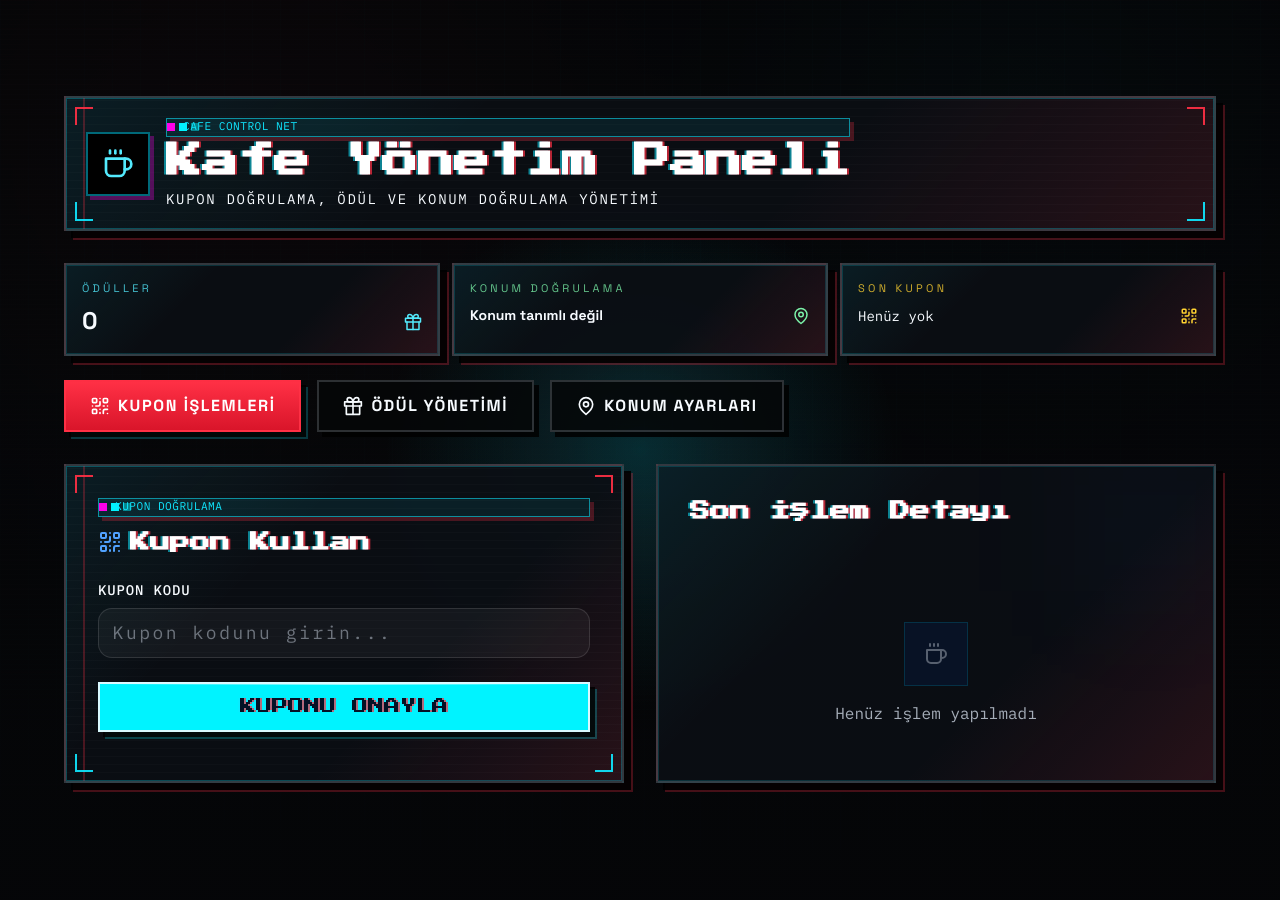
CafeDashboard › shows coupon error from backend payload
Type "bad" into the field with placeholder "Kupon kodunu girin..." at (344, 633), box [98, 608, 590, 658]
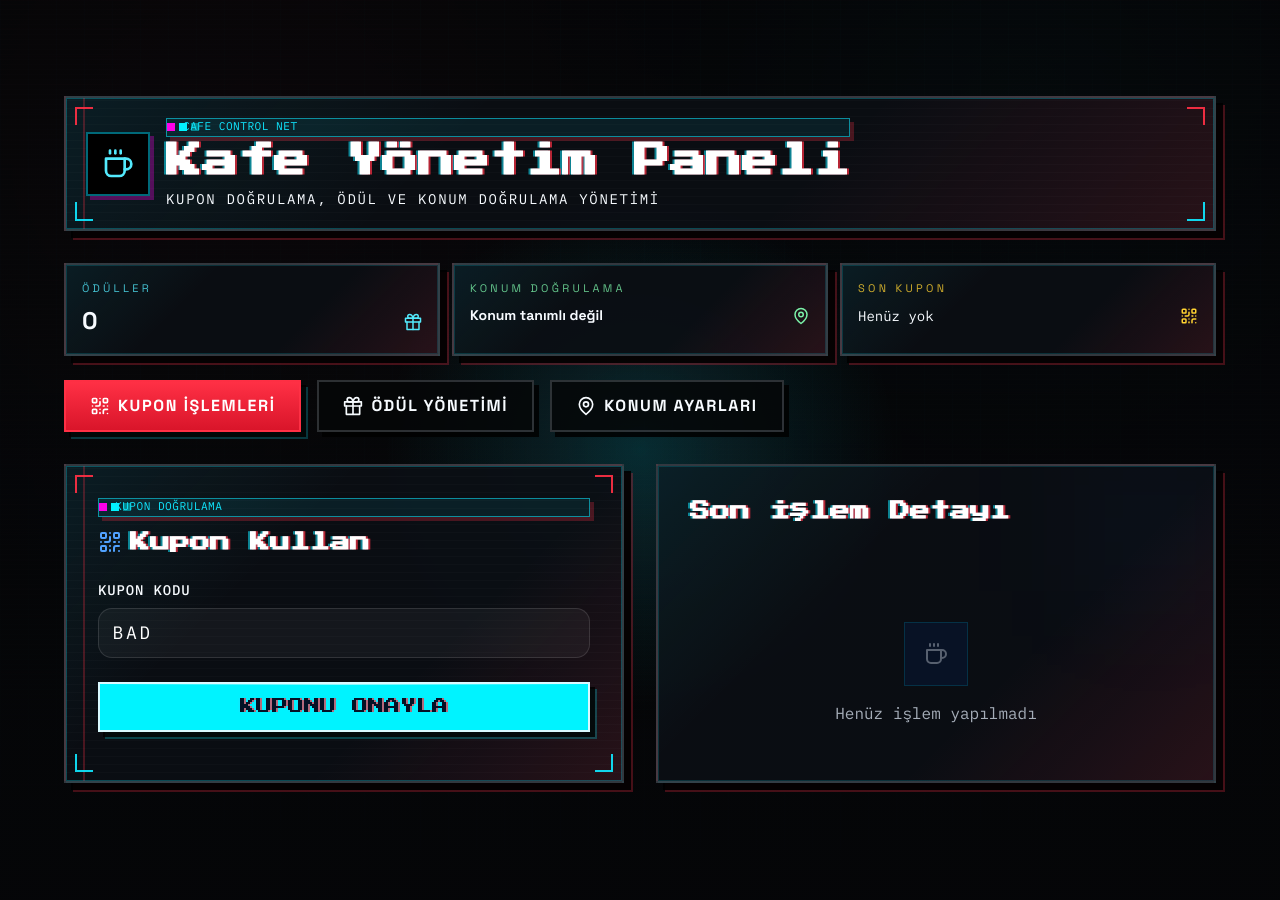
Click the button "KUPONU ONAYLA" at (344, 707), box [98, 682, 590, 732]
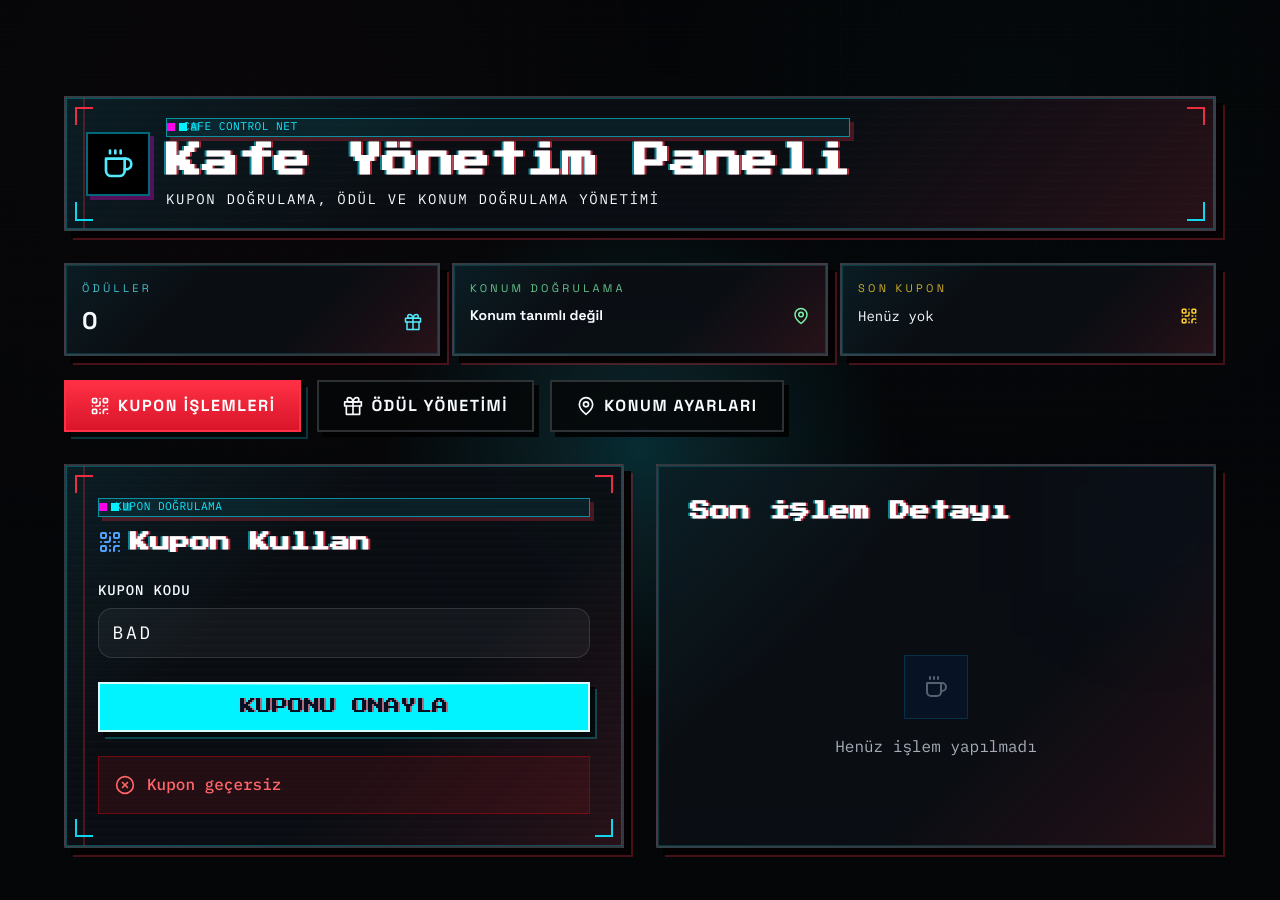
Expected: the text "Kupon geçersiz" is shown, [147, 773, 281, 797]
